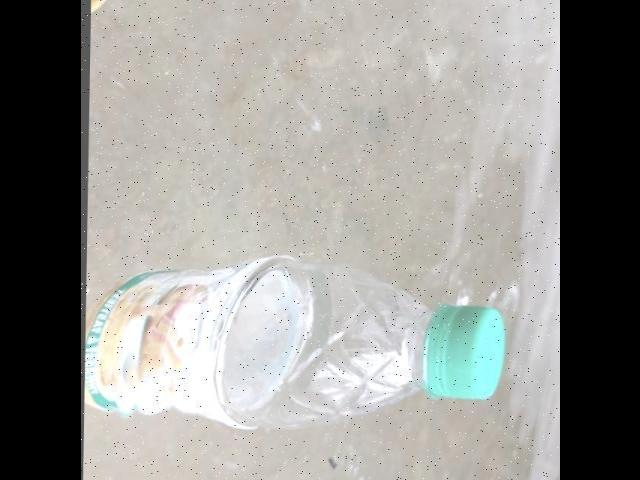Bottle: (80, 247, 511, 440)
